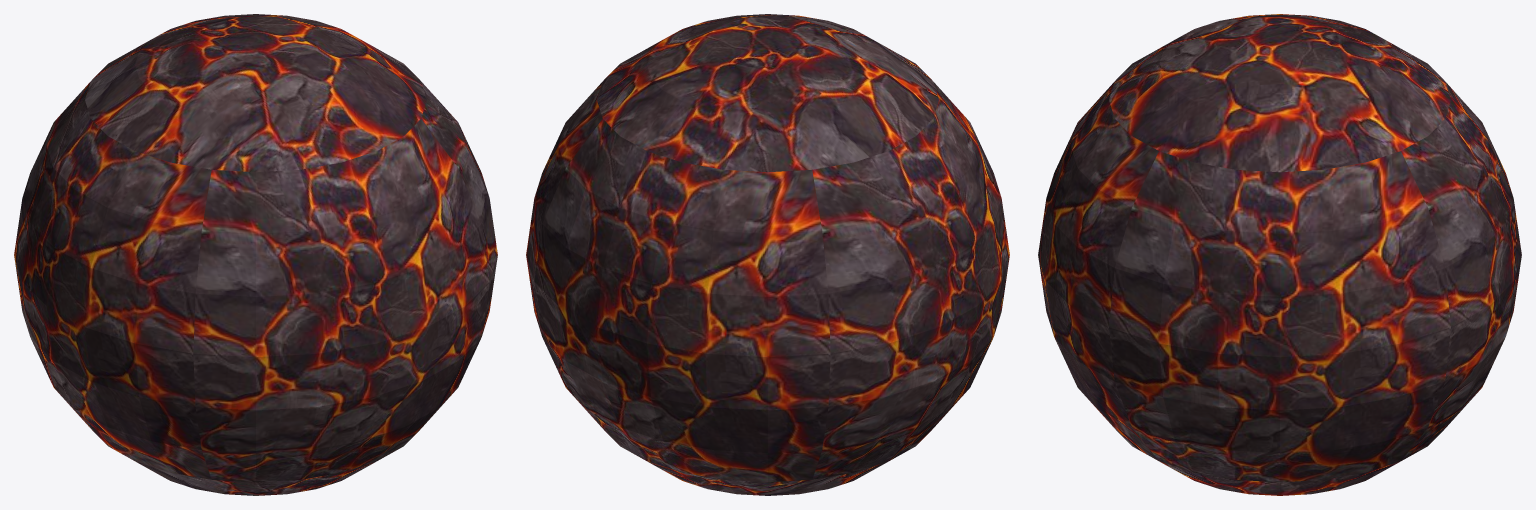
File: FireBroken.fbx
3 renders of one model, left to right at view 1: azimuth 30°, elevation 25°; view 2: azimuth 150°, elevation 25°; view 3: azimuth 270°, elevation 25°, orthographic.
Parts seen in each view (by area): view 1: Pieces_10, Pieces_6, Pieces_5, Pieces_3, Pieces_2, Pieces_1, Pieces_8, Pieces_7; view 2: Pieces_5, Pieces_7, Pieces_4, Pieces_1, Pieces_6; view 3: Pieces_4, Pieces_3, Pieces_6, Pieces_8, Pieces_10, Pieces_5, Pieces_2, Pieces_7.
Part boxes in pixels (x1,y1,x2,y2): Pieces_10: (145,327,472,495); Pieces_6: (192,14,371,328); Pieces_5: (45,15,232,347); Pieces_3: (301,127,497,363); Pieces_2: (228,105,427,331); Pieces_1: (14,252,177,468); Pieces_8: (363,41,460,194); Pieces_7: (14,117,115,309); Pieces_5: (664,55,1007,239); Pieces_7: (641,214,1002,403); Pieces_4: (526,56,677,472); Pieces_1: (644,237,1009,495); Pieces_6: (643,14,983,150); Pieces_4: (1218,81,1520,483); Pieces_3: (1038,182,1231,435); Pieces_6: (1092,17,1391,127); Pieces_8: (1093,99,1306,237); Pieces_10: (1040,268,1372,495); Pieces_5: (1223,14,1484,139); Pieces_2: (1049,96,1160,188); Pieces_7: (1474,113,1521,315).
Bounding box in the file's own units: 200 × 200 × 200.
10 materials, 10 textured.
